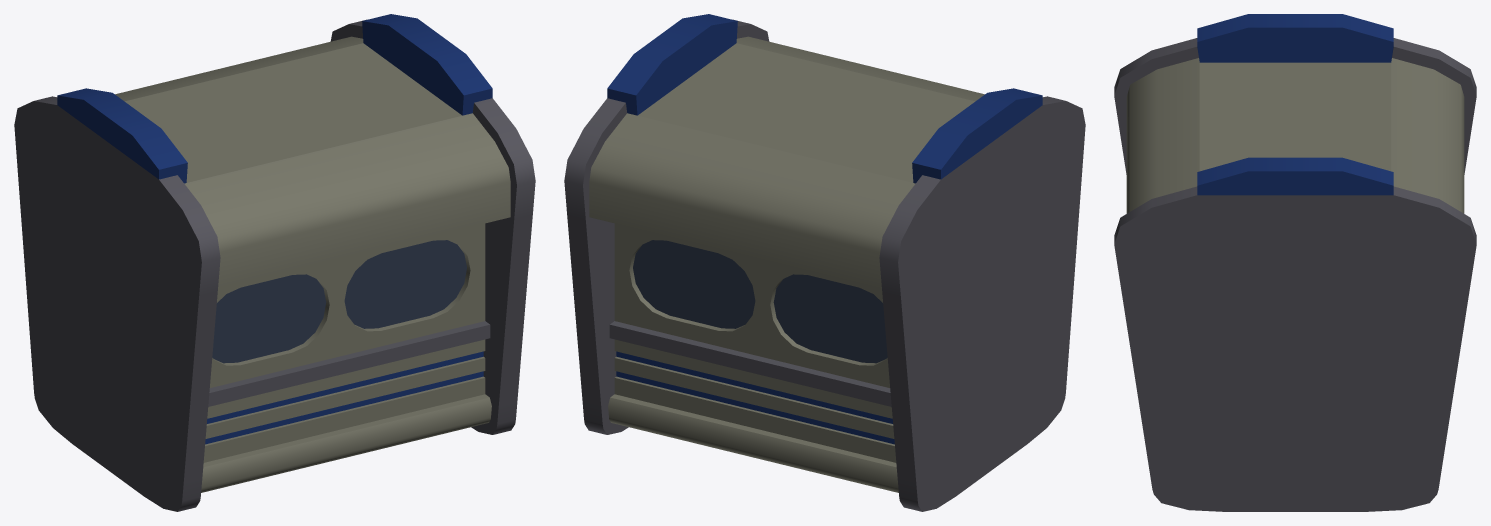
Rendered from LPSciFi_DoorwayShort_001.fbx.
3 renders of one model, left to right at view 1: azimuth 30°, elevation 25°; view 2: azimuth 150°, elevation 25°; view 3: azimuth 270°, elevation 25°, orthographic. The views are drawn at different scales.
Visible parts, largest first — view 1: DoorwayShort.001; view 2: DoorwayShort.001; view 3: DoorwayShort.001.
Part boxes in pixels (x1,y1,x2,y2): DoorwayShort.001: [14, 14, 535, 511]; DoorwayShort.001: [564, 14, 1085, 511]; DoorwayShort.001: [1114, 14, 1476, 511].
Size of the model in its own units: 400 by 404 by 390.
